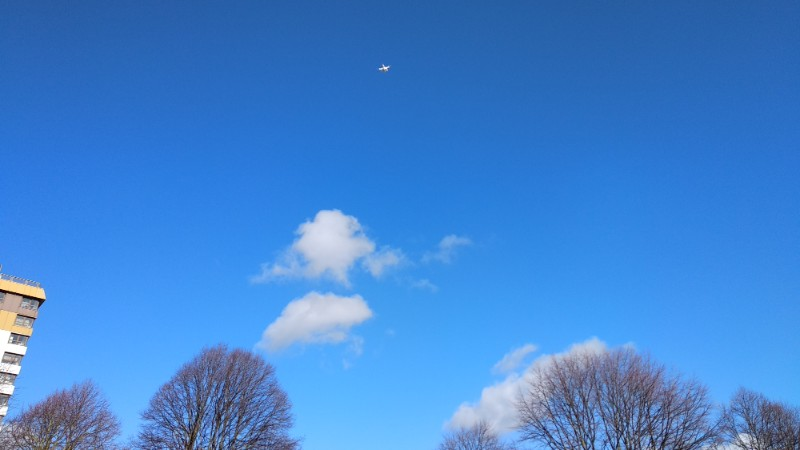drone: (377, 63, 390, 72)
